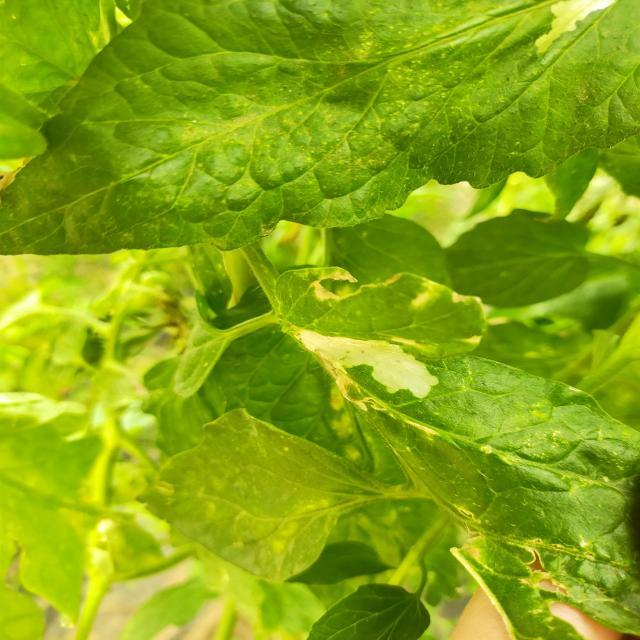Tuta absoluta: (289, 307, 445, 408), (522, 0, 621, 54)
